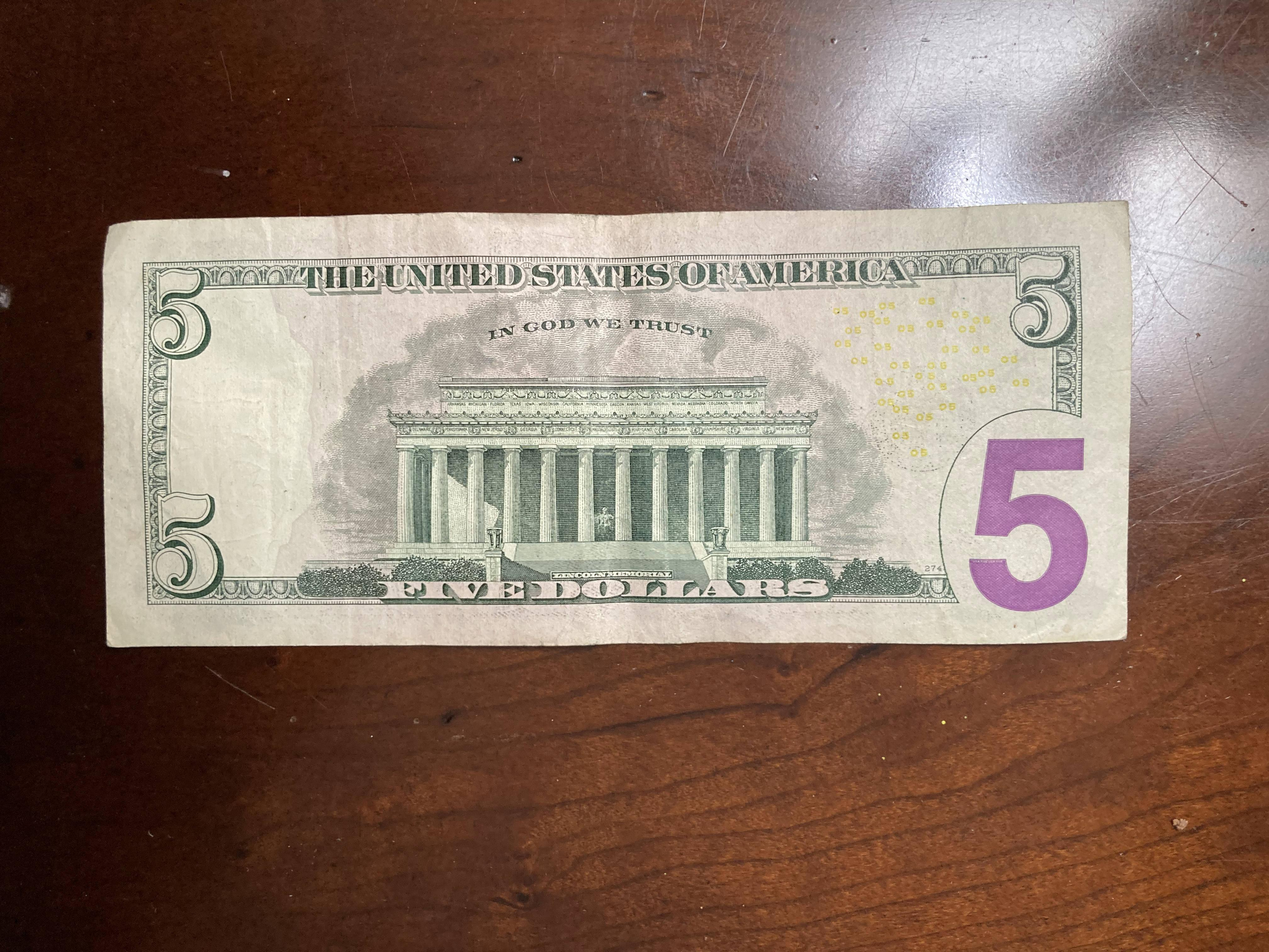five-back: (101, 196, 1136, 650)
